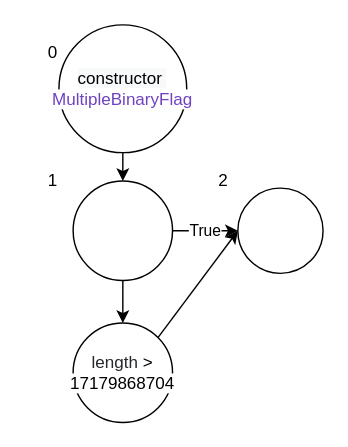
Image size: 348x447. Some labels were removed from this diagram. Each missing label, with the centre of its shape:
if ( length < 2 ): the point at 122,230
Throw exception: the point at 279,230
